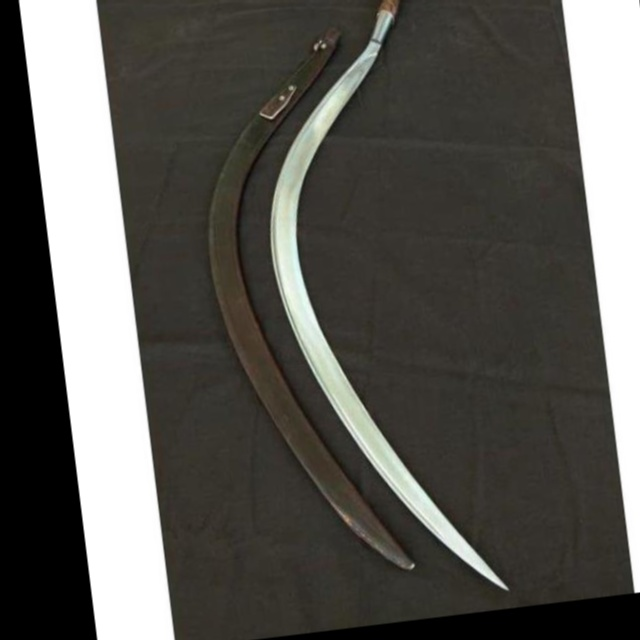Sharp-Object: (234, 0, 528, 616)
